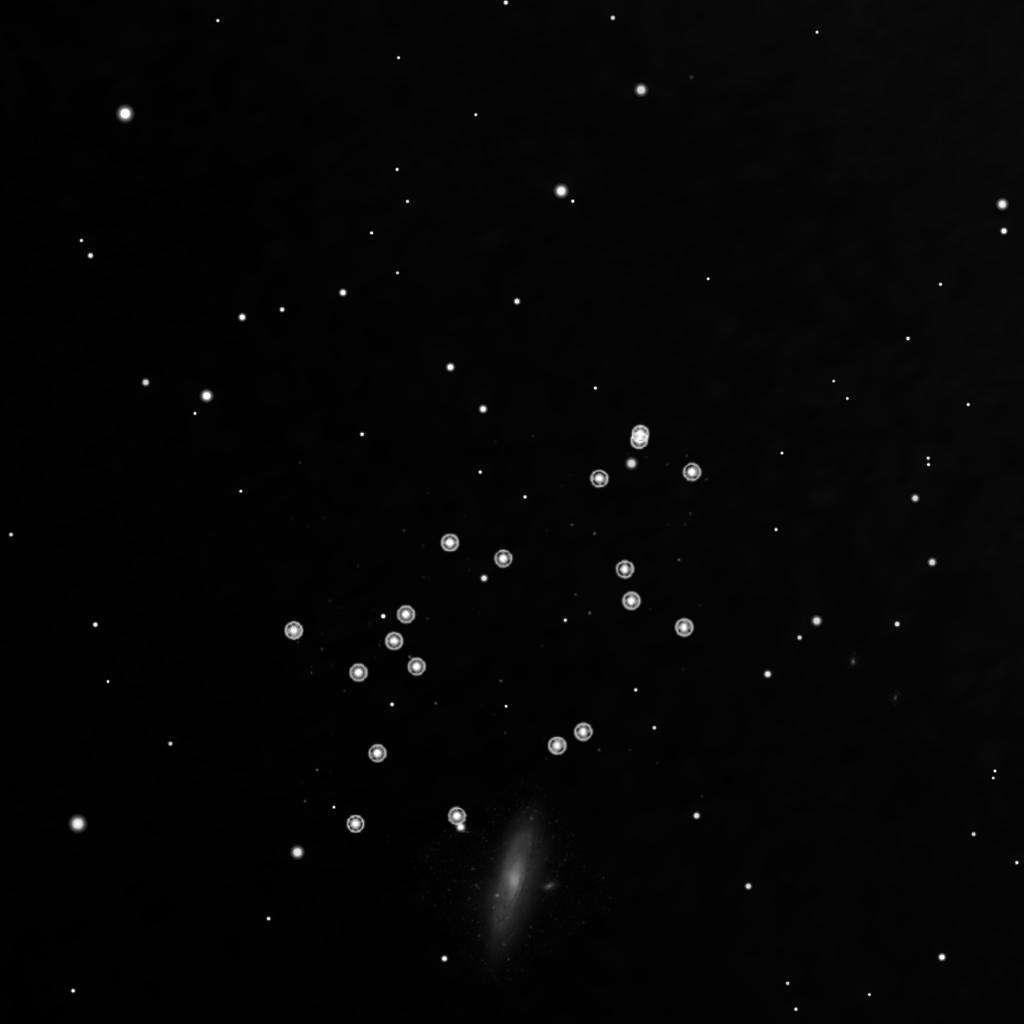canis_major: (344, 526, 521, 693)
